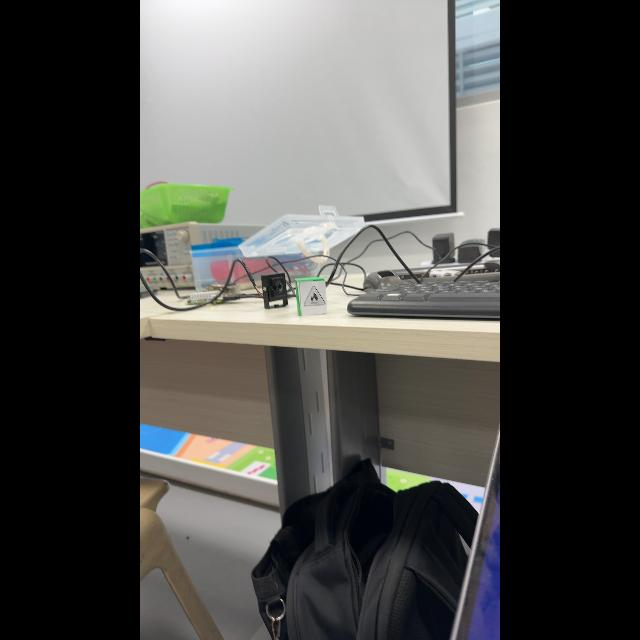Fire: (304, 286, 325, 306)
